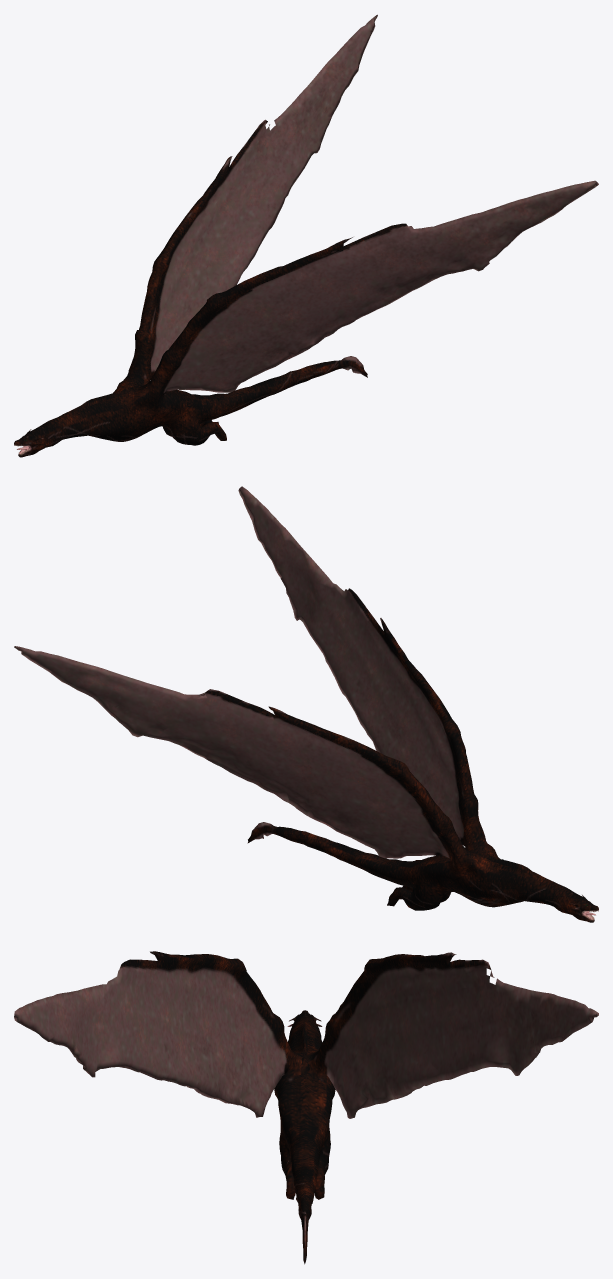
The picture shows the model from 3 angles, top to bottom: view 1: azimuth 30°, elevation 25°; view 2: azimuth 150°, elevation 25°; view 3: azimuth 270°, elevation 25°; orthographic projection. The views are drawn at different scales.
Parts seen in each view (by area): view 1: DragonHead_4, DragonHead_2; view 2: DragonHead_4, DragonHead_2; view 3: DragonHead_4, DragonHead_3.
Boxes of the visible parts, bbox=[...] form: DragonHead_4: bbox=[40, 14, 598, 447]; DragonHead_2: bbox=[14, 426, 46, 457]; DragonHead_4: bbox=[14, 486, 573, 914]; DragonHead_2: bbox=[567, 892, 598, 922]; DragonHead_4: bbox=[14, 951, 598, 1208]; DragonHead_3: bbox=[298, 1200, 311, 1264].
Size of the model in its own units: 77883 by 42888 by 63345.
3 materials, 3 textured.
